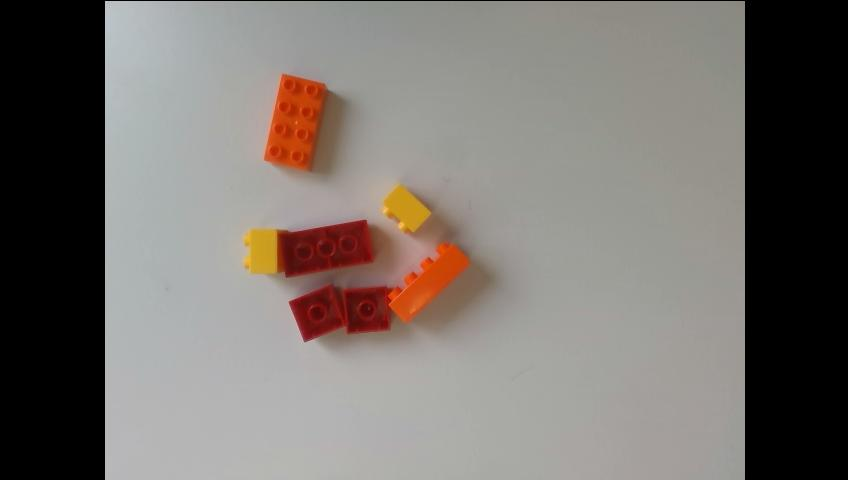2x2_red: (289, 284, 344, 340), (343, 288, 388, 334)
2x2_yellow: (380, 181, 431, 233), (243, 227, 287, 272)
4x2_orange: (384, 241, 470, 323), (261, 73, 328, 171)
4x2_red: (279, 217, 372, 277)
